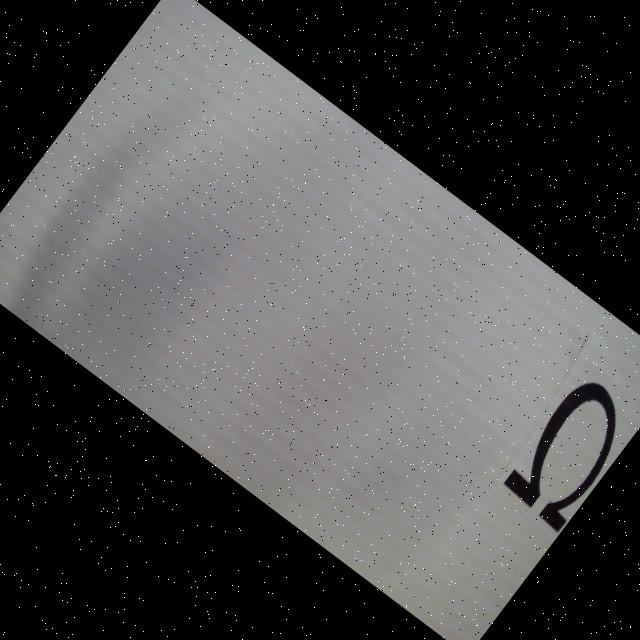OMEGA: (497, 372, 640, 533)
